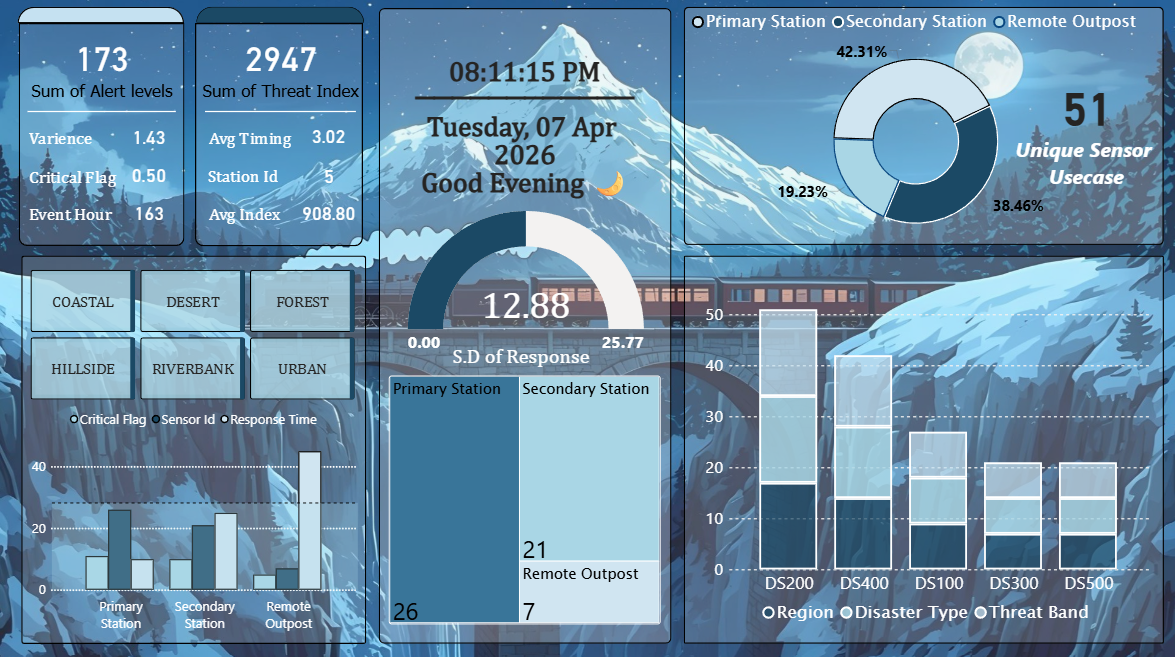

The page's visual inventory and layout, read from the dashboard file:
{"tool":"powerbi","page":{"name":"Disaster Monitoring Dashboard","canvas":[1920,1080],"ordinal":0},"visuals":[{"type":"shape","box":[1116,420,784,634],"z":0},{"type":"shape","box":[34.4,420,563.3,634.4],"z":1000},{"type":"columnChart","fields":{"Category":["Sheet3.station_id"],"Y":["CountNonNull(Sheet3.region)","CountNonNull(Sheet3.disaster_type)","CountNonNull(Sheet3.threat_band)"]},"box":[1146,462,734,568],"z":2000},{"type":"shape","box":[1116.4,14.5,783.6,389.1],"z":3000},{"type":"donutChart","fields":{"Category":["Sheet2.station_type"],"Y":["Sum(Sheet3.critical_flag)"]},"box":[1108.7,13,771.7,400],"z":4000},{"type":"card","fields":{"Values":["Count(Sheet3.sensor_id)"]},"box":[1646,8,254,370],"z":5000},{"type":"lineClusteredColumnComboChart","fields":{"Category":["Sheet2.station_type"],"Y":["Sum(Sheet3.critical_flag)","CountNonNull(Sheet3.sensor_id)","Median(Sheet2.response_time_mins)"]},"box":[47.5,662.5,542.5,380],"z":6000},{"type":"shape","box":[29,14,272,27],"z":7000},{"type":"shape","box":[30,40,270.6,364.1],"z":8000},{"type":"shape","box":[319.4,40.3,274.2,364.5],"z":9000},{"type":"shape","box":[320,15,274,26],"z":10000},{"type":"card","fields":{"Values":["Sum(Sheet3.alert_level)"]},"box":[30,34,272,152],"z":11000},{"type":"shape","box":[45.6,171.1,242.2,27.8],"z":12000},{"type":"card","fields":{"Values":["Sum(Sheet3.alert_level)"]},"box":[175,197.5,136.2,55],"z":13000},{"type":"card","fields":{"Values":["Sum(Sheet3.critical_flag)"]},"box":[176.2,261.2,135.6,55],"z":14000},{"type":"card","fields":{"Values":["Sum(Sheet3.event_hour)"]},"box":[176.2,323.1,136.9,56.2],"z":15000},{"type":"shape","title":"Varience","box":[46.2,211.4,150,32.6],"z":16000},{"type":"shape","title":"Event Hour","box":[46,337,175,33],"z":17000},{"type":"shape","title":"Critical Flag","box":[46,275,150,33],"z":18000},{"type":"card","fields":{"Values":["Sum(Sheet3.threat_index)"]},"box":[322.2,34.4,272.2,151.1],"z":19000},{"type":"shape","box":[334.4,171.1,246.7,27.8],"z":20000},{"type":"card","fields":{"Values":["Avg(Sheet3.event_hour)"]},"box":[470,196.9,135,55.6],"z":21000},{"type":"card","fields":{"Values":["Count(Sheet3.station_id)"]},"box":[469.4,260.6,136.2,55.6],"z":22000},{"type":"card","fields":{"Values":["Sum(Sheet3.threat_index)"]},"box":[470,322.5,135,55.8],"z":23000},{"type":"shape","title":"Avg Index","box":[340,336.7,175,33.3],"z":24000},{"type":"shape","title":"Station Id","box":[338.1,274.4,150,33.1],"z":25000},{"type":"shape","title":"Avg Timing","box":[340,211.2,150,33.1],"z":26000},{"type":"shape","box":[618,16,478,1038],"z":27000},{"type":"treemap","fields":{"Group":["Sheet2.station_type"],"Values":["CountNonNull(Sheet3.event_time)"]},"box":[634,616,444,406],"z":28000},{"type":"gauge","title":"S.D. of Response Time","fields":{"Y":["CountNonNull(Sheet2.response_time_mins)"]},"box":[636,342,444,248],"z":29000},{"type":"shape","title":"S.D of Response","box":[738,564,276,52],"z":30000},{"type":"card","fields":{"Values":["Sheet1 (2).Current DateTime"]},"box":[650,54,412,308],"z":31000},{"type":"advancedSlicerVisual","fields":{"Values":["Sheet3.region"]},"box":[45.7,438.6,540,222.9],"z":32000}]}

Visuals, with their boxes in screenshot pixels (x1, y1, x2, y2), scaled from the page's 1920x1080 canvas onto the 1175x657 screenshot:
shape: box(683, 255, 1163, 641)
shape: box(21, 255, 366, 641)
columnChart - Sheet3.station_id x CountNonNull(Sheet3.region): box(701, 281, 1151, 627)
shape: box(683, 9, 1163, 246)
donutChart - Sheet2.station_type x Sum(Sheet3.critical_flag): box(679, 8, 1151, 251)
card - Count(Sheet3.sensor_id): box(1007, 5, 1163, 230)
lineClusteredColumnComboChart - Sheet2.station_type x Sum(Sheet3.critical_flag): box(29, 403, 361, 634)
shape: box(18, 9, 184, 25)
shape: box(18, 24, 184, 246)
shape: box(195, 25, 363, 246)
shape: box(196, 9, 364, 25)
card - Sum(Sheet3.alert_level): box(18, 21, 185, 113)
shape: box(28, 104, 176, 121)
card - Sum(Sheet3.alert_level): box(107, 120, 190, 154)
card - Sum(Sheet3.critical_flag): box(108, 159, 191, 192)
card - Sum(Sheet3.event_hour): box(108, 197, 192, 231)
"Varience" shape: box(28, 129, 120, 148)
"Event Hour" shape: box(28, 205, 135, 225)
"Critical Flag" shape: box(28, 167, 120, 187)
card - Sum(Sheet3.threat_index): box(197, 21, 364, 113)
shape: box(205, 104, 356, 121)
card - Avg(Sheet3.event_hour): box(288, 120, 370, 154)
card - Count(Sheet3.station_id): box(287, 159, 371, 192)
card - Sum(Sheet3.threat_index): box(288, 196, 370, 230)
"Avg Index" shape: box(208, 205, 315, 225)
"Station Id" shape: box(207, 167, 299, 187)
"Avg Timing" shape: box(208, 128, 300, 149)
shape: box(378, 10, 671, 641)
treemap - Sheet2.station_type x CountNonNull(Sheet3.event_time): box(388, 375, 660, 622)
"S.D. of Response Time" gauge: box(389, 208, 661, 359)
"S.D of Response" shape: box(452, 343, 621, 375)
card - Sheet1 (2).Current DateTime: box(398, 33, 650, 220)
advancedSlicerVisual - Sheet3.region: box(28, 267, 358, 402)
